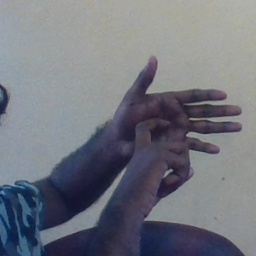R: (103, 55, 246, 203)
